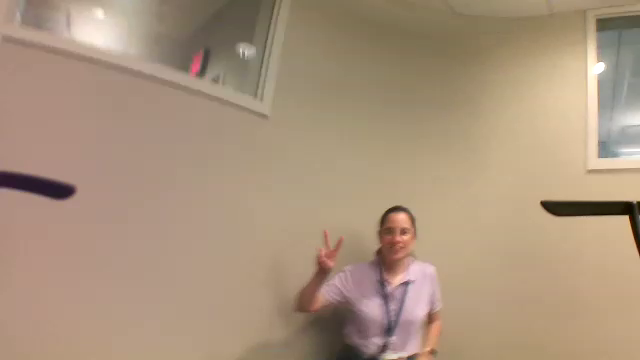peace: (314, 221, 349, 275)
